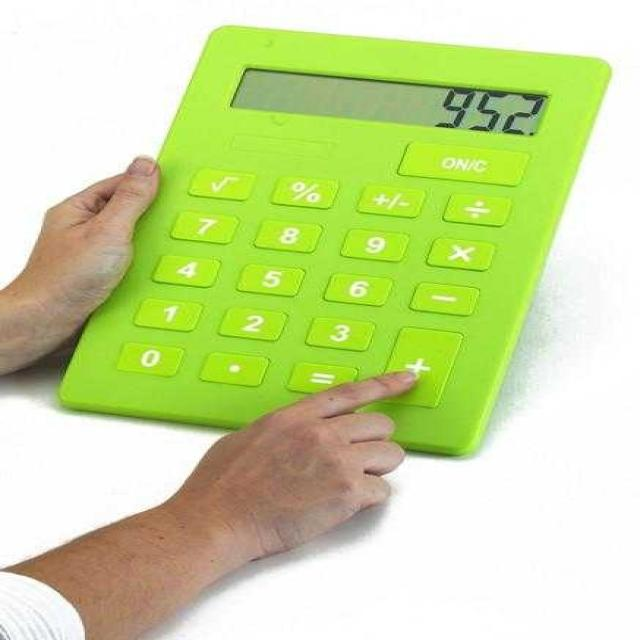Calculator: (54, 24, 612, 458)
